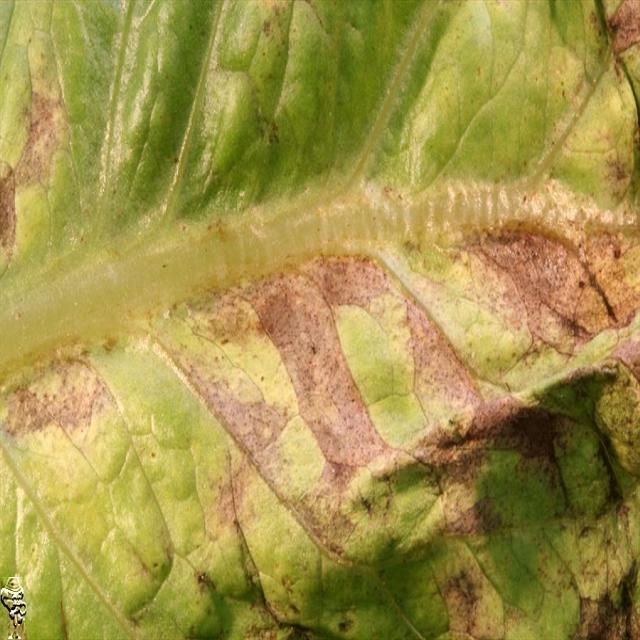Septoria_Blight_on_lettuce: (285, 195, 632, 626)
